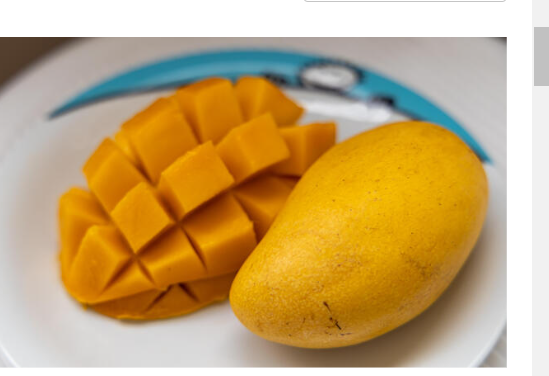mango: (231, 117, 489, 350)
